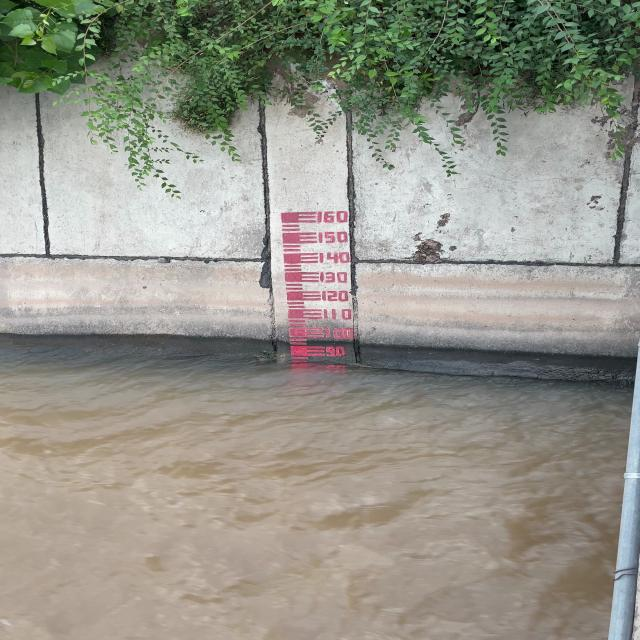ruler: (276, 207, 361, 361)
value: (313, 209, 352, 224), (317, 250, 352, 265), (315, 230, 351, 244), (322, 326, 357, 340), (318, 270, 352, 284), (321, 307, 355, 321), (318, 290, 352, 302), (323, 345, 348, 357)
